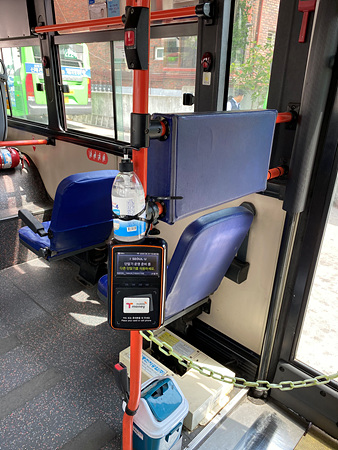terminal: (108, 235, 166, 328)
